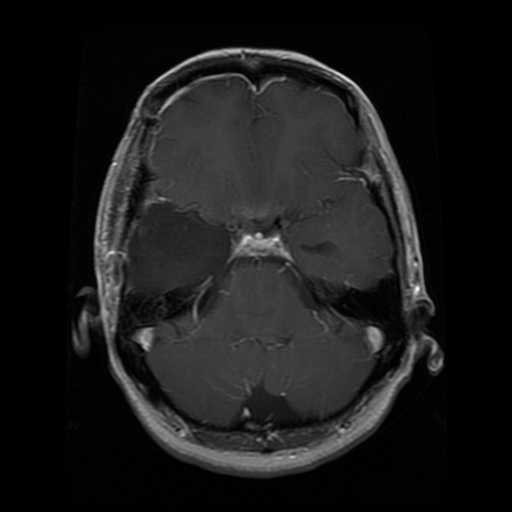glioma: (125, 197, 233, 298)
